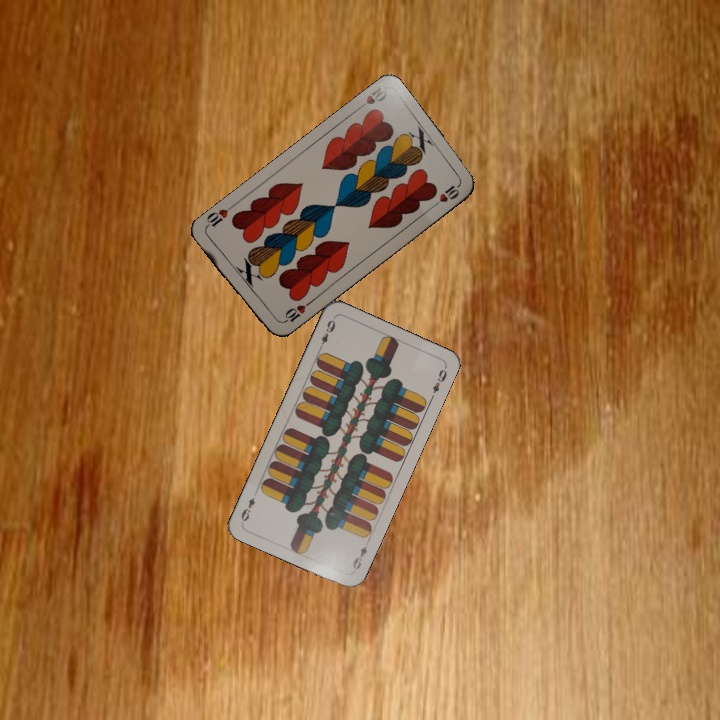E9: (315, 314, 338, 352), (349, 542, 370, 572)
H10: (352, 82, 390, 113), (278, 298, 313, 326)
